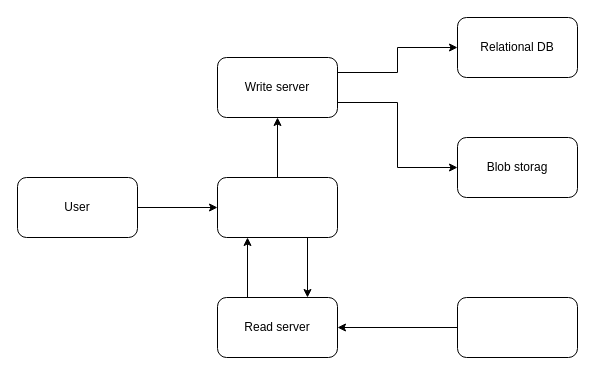
Image size: 595x375. Some labels were removed from this diagram. Here are the shapes that lost their labels. From the top down, the centre of each, then its label:
At (x=277, y=207): "Load balancer".
At (x=517, y=327): "Key-value store".
